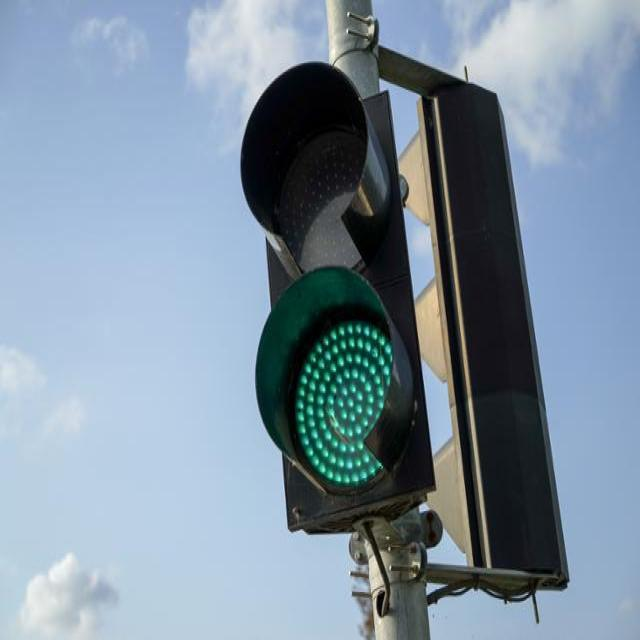Green_light: (237, 72, 428, 507)
